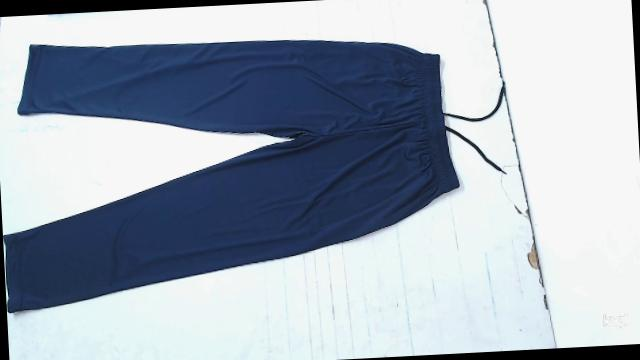new-garment: (4, 40, 458, 312)
